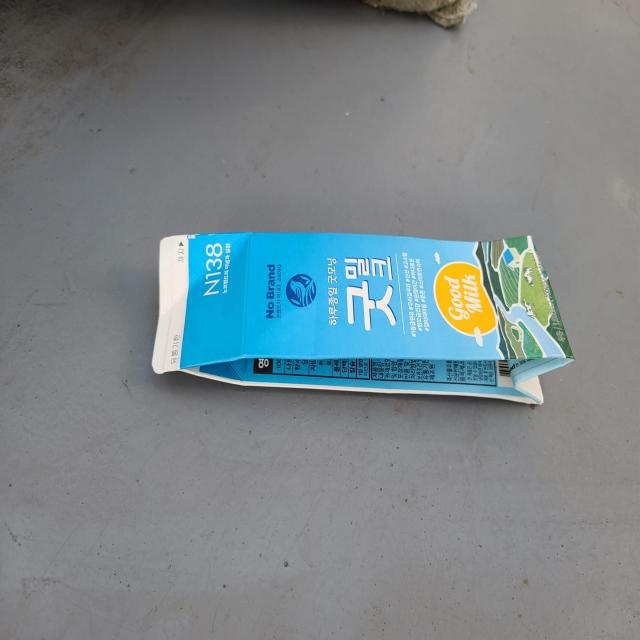paperpack: (152, 232, 575, 404)
